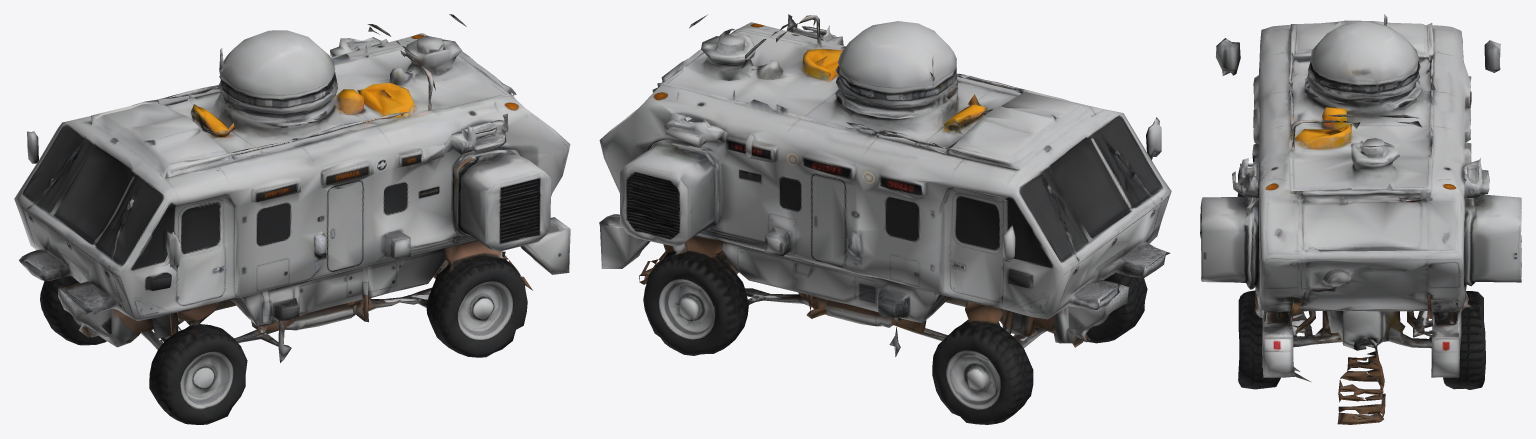
The model's file is Meshy_AI_A_lunar_mobile_HQ_wh_0417234643_texture.glb.
3 renders of one model, left to right at view 1: azimuth 30°, elevation 25°; view 2: azimuth 150°, elevation 25°; view 3: azimuth 270°, elevation 25°, orthographic. The views are drawn at different scales.
Size of the model in its own units: 2 by 1.26 by 1.26.
Materials: 1 (1 with a texture image).
